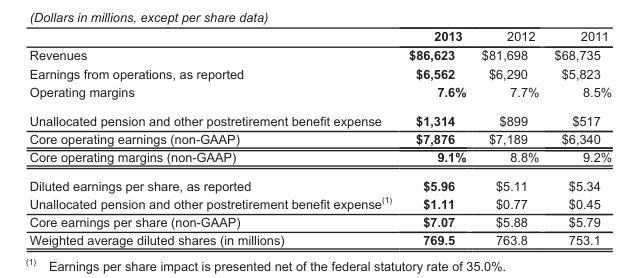table: (28, 28, 611, 246)
table column: (28, 28, 399, 246), (399, 28, 473, 246), (473, 28, 545, 246), (545, 28, 611, 246)
table column header: (28, 28, 611, 45)
table row: (28, 105, 611, 129), (28, 147, 611, 171), (28, 82, 611, 105), (28, 171, 611, 193), (28, 45, 611, 64), (28, 193, 611, 212), (28, 64, 611, 82), (28, 129, 611, 147), (28, 212, 611, 230), (28, 28, 611, 45), (28, 230, 611, 246)
